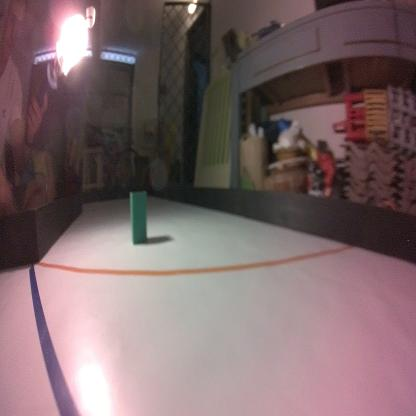green: (128, 188, 148, 249)
